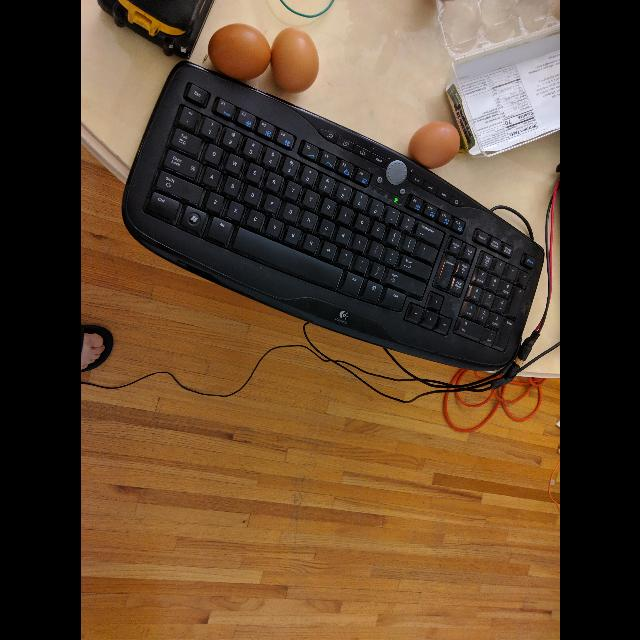Egg: (266, 21, 324, 103), (202, 20, 276, 82), (406, 119, 464, 171)
